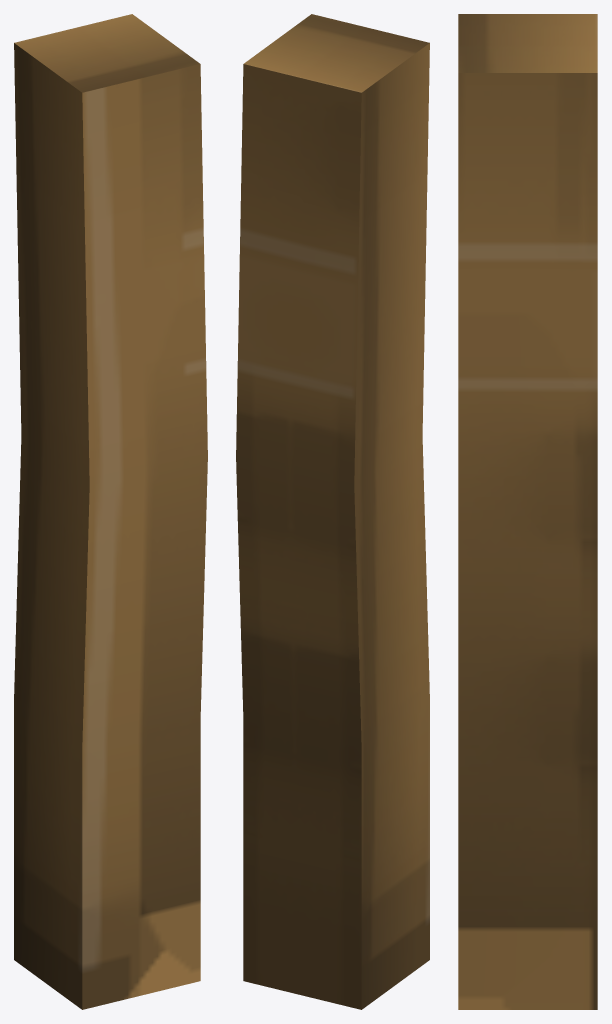
Rendered from fence_post.fbx.
3 views of the same model, side by side, from view 1: azimuth 30°, elevation 25°; view 2: azimuth 150°, elevation 25°; view 3: azimuth 270°, elevation 25° (orthographic). The views are drawn at different scales.
Parts seen in each view (by area): view 1: Cube_000; view 2: Cube_000; view 3: Cube_000.
Part boxes in pixels (<box>): Cube_000: <box>14,14,207,1009</box>; Cube_000: <box>236,14,429,1009</box>; Cube_000: <box>458,14,597,1009</box>.
Bounding box in the file's own units: 25.12 × 175 × 23.64.
